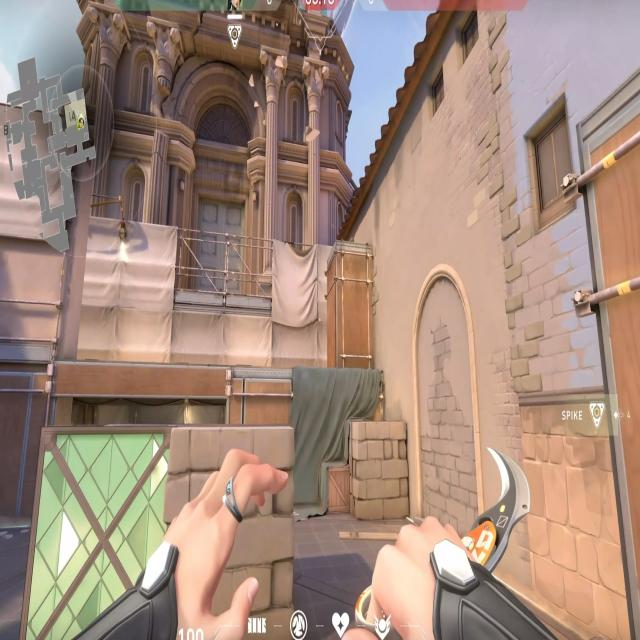A_Heaven_Box: (324, 232, 380, 376)
A_Heaven_Wall: (0, 116, 95, 359)
A_Site_Box: (21, 411, 298, 640)
